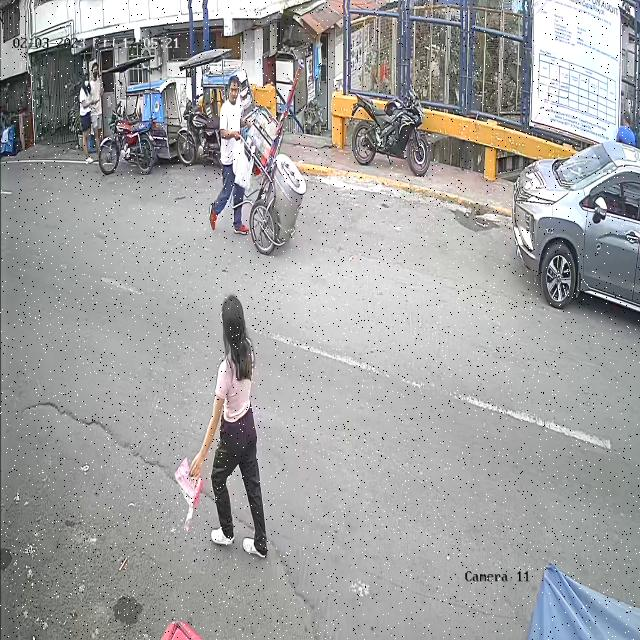garbage_dumping: (175, 454, 205, 529)
